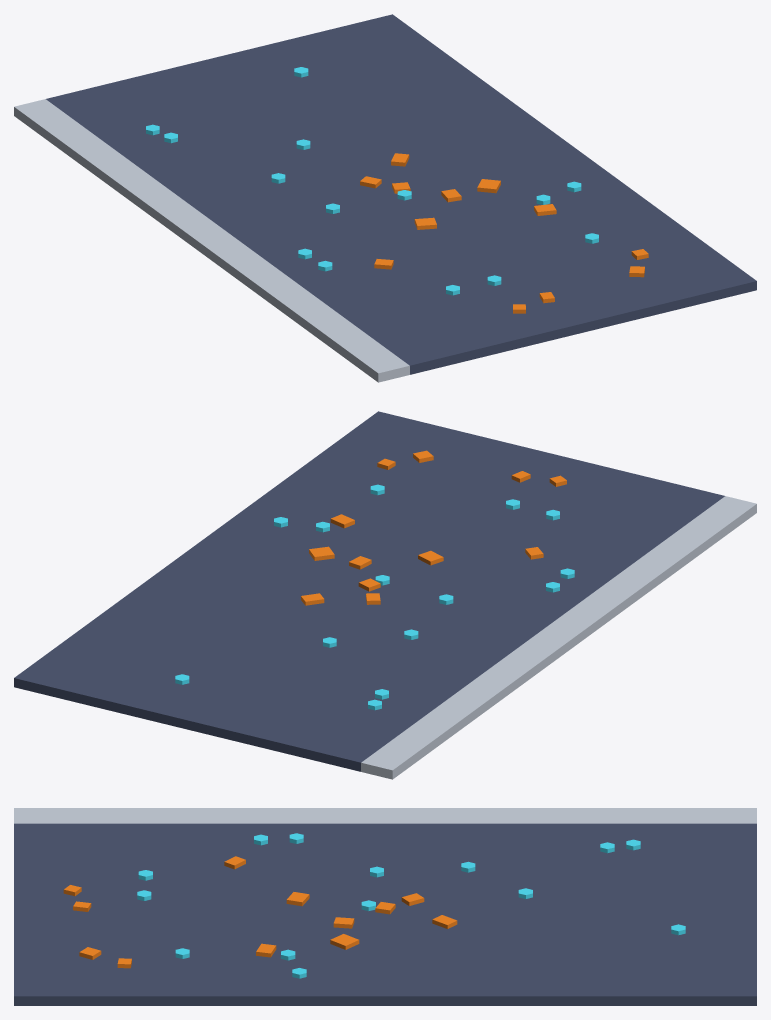
Rendered from env_r9_verge.glb.
3 renders of one model, top to bottom at view 1: azimuth 30°, elevation 25°; view 2: azimuth 150°, elevation 25°; view 3: azimuth 270°, elevation 25°, orthographic.
Parts seen in each view (by area): view 1: env_r9_verge; view 2: env_r9_verge; view 3: env_r9_verge.
Part boxes in pixels (bbox=[...]): env_r9_verge: bbox=[14, 14, 756, 382]; env_r9_verge: bbox=[14, 411, 756, 779]; env_r9_verge: bbox=[14, 808, 756, 1005].
Bounding box in the file's own units: 6 × 0.2 × 10.
1 material, 1 textured.
